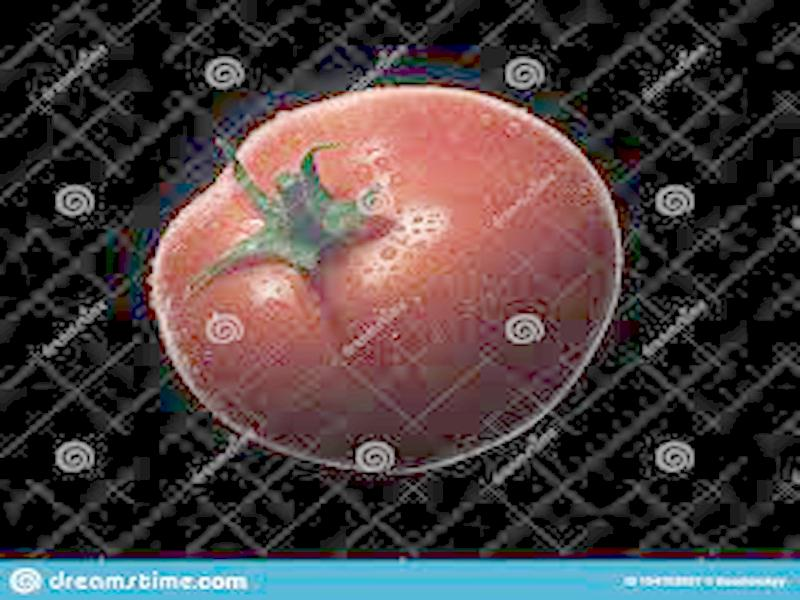Tomato: (150, 86, 623, 469)
